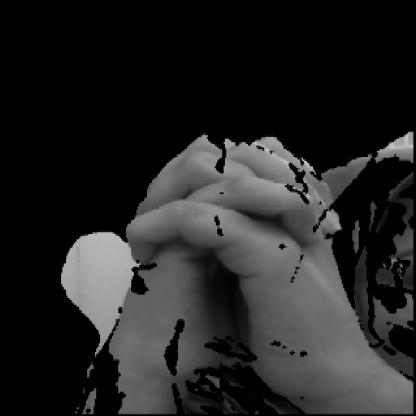prayer: (97, 97, 372, 406)
